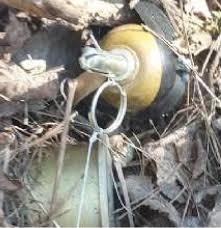RGD 5: (78, 22, 194, 118)
